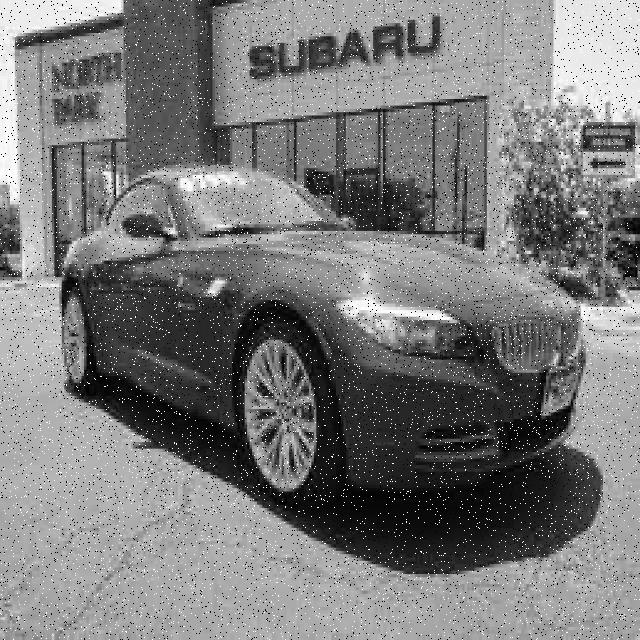Sedan: (58, 163, 588, 512)
